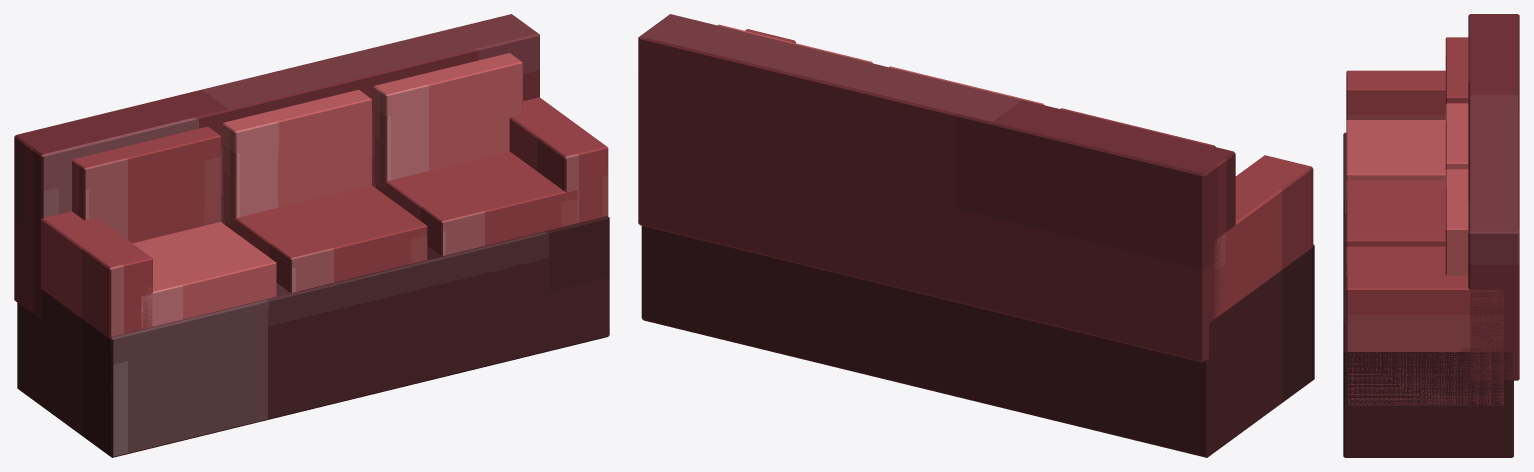
File: lounge_couch_red_wide.glb
3 renders of one model, left to right at view 1: azimuth 30°, elevation 25°; view 2: azimuth 150°, elevation 25°; view 3: azimuth 270°, elevation 25°, orthographic. The views are drawn at different scales.
Visible parts, largest first — view 1: CouchBase, CouchBack, BackCushion_2, BackCushion_3, SeatCushion_2, BackCushion_1, SeatCushion_3, CouchArm_L, SeatCushion_1, CouchArm_R; view 2: CouchBack, CouchBase, CouchArm_L; view 3: CouchBack, CouchBase, CouchArm_R, SeatCushion_2, SeatCushion_1, CouchArm_L, BackCushion_3, SeatCushion_3, BackCushion_1, BackCushion_2.
Boxes of the visible parts, x1,y1,x2,y2 form: CouchBase: (17,216,609,457); CouchBack: (14,14,539,319); BackCushion_2: (223,89,371,227); BackCushion_3: (373,53,522,190); SeatCushion_2: (225,185,427,292); BackCushion_1: (72,126,221,243); SeatCushion_3: (376,151,577,255); CouchArm_L: (41,211,152,338); SeatCushion_1: (132,222,276,328); CouchArm_R: (509,97,608,222); CouchBack: (638,14,1235,362); CouchBase: (641,226,1314,457); CouchArm_L: (1214,155,1313,318); CouchBack: (1468,14,1519,380); CouchBase: (1343,132,1513,457); CouchArm_R: (1346,270,1503,405); SeatCushion_2: (1346,180,1445,247); SeatCushion_1: (1346,120,1445,180); CouchArm_L: (1346,70,1445,120); BackCushion_3: (1445,169,1468,275); SeatCushion_3: (1346,246,1445,270); BackCushion_1: (1445,37,1468,103); BackCushion_2: (1445,103,1468,169).
Size of the model in its own units: 1.82 by 0.91 by 0.62.
1 material, 1 textured.
